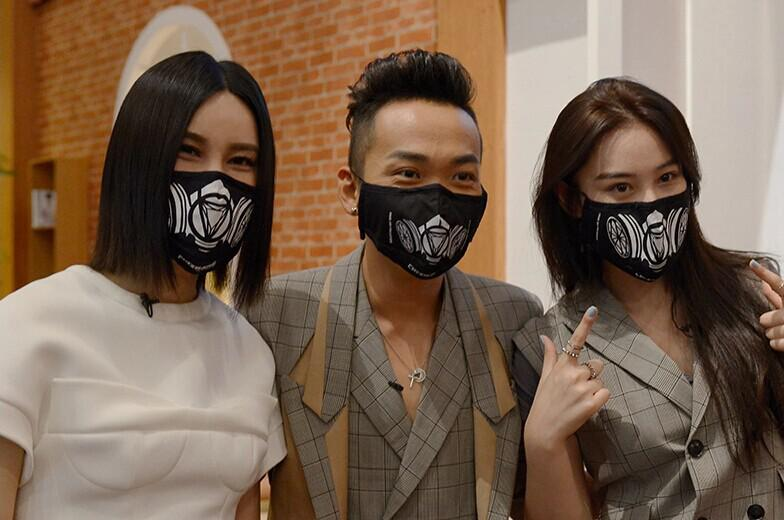OK: (142, 119, 273, 263), (356, 141, 485, 270), (580, 151, 700, 271)
